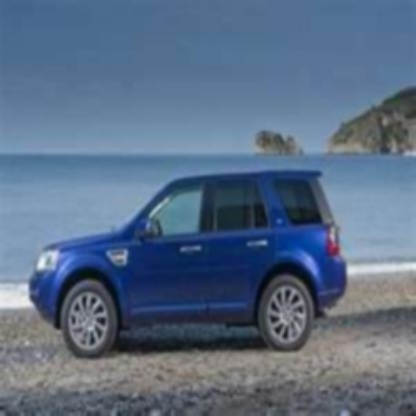Vehicle: (33, 170, 351, 361)
